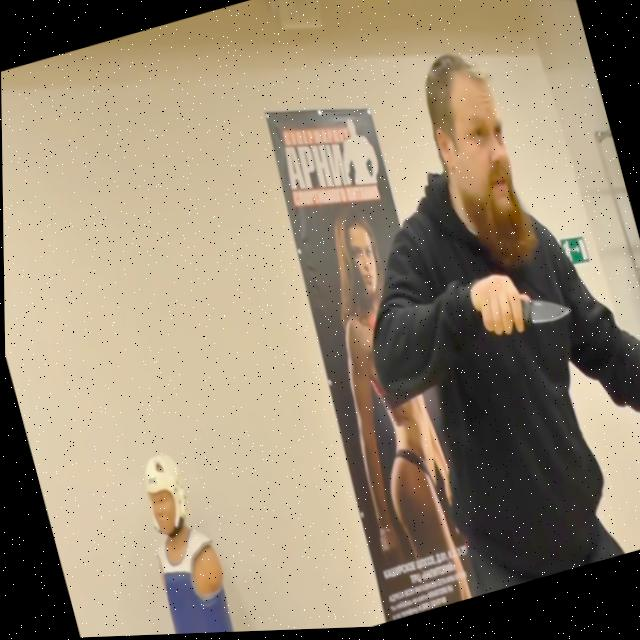knife: (512, 291, 572, 339)
